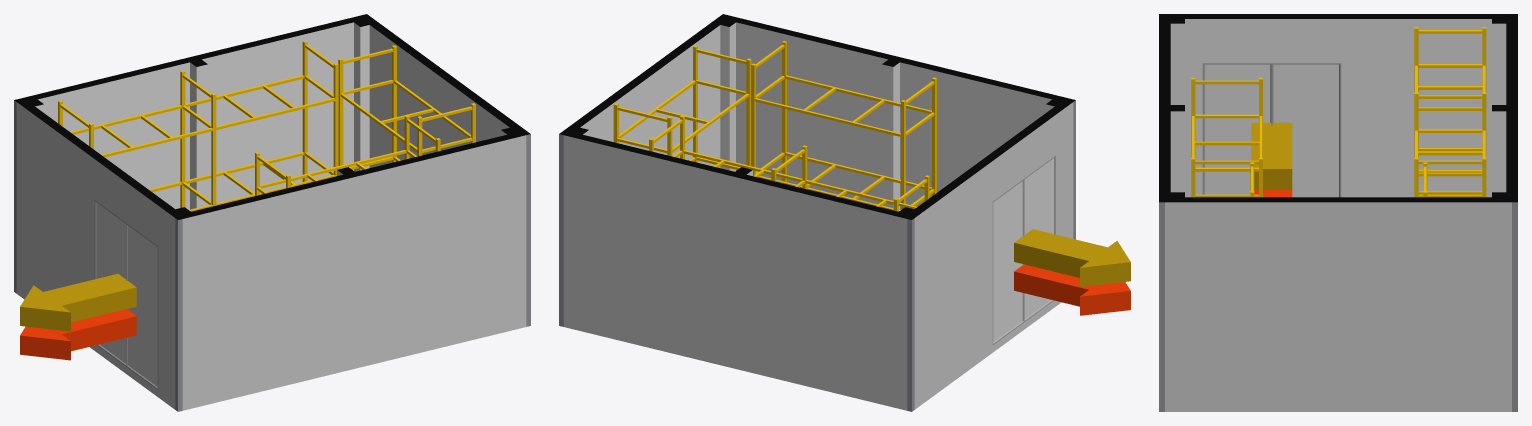
Rendered from soubrain_T1-5-1F.glb.
The picture shows the model from 3 angles, left to right: view 1: azimuth 30°, elevation 25°; view 2: azimuth 150°, elevation 25°; view 3: azimuth 270°, elevation 25°; orthographic projection. The views are drawn at different scales.
Visible parts, largest first — view 1: T1-5-1F_Wall, Rectangle1069, T1-5-1F_Door, arrow_Y_1_T1-5-1F, arrow_R_1_T1-5-1F; view 2: T1-5-1F_Wall, Rectangle1069, T1-5-1F_Door, arrow_Y_1_T1-5-1F, arrow_R_1_T1-5-1F; view 3: T1-5-1F_Wall, T1-5-1F_Door, Rectangle1069, arrow_Y_1_T1-5-1F.
Boxes of the visible parts, x1,y1,x2,y2 form: T1-5-1F_Wall: (14,14,530,411); Rectangle1069: (58,40,475,211); T1-5-1F_Door: (94,200,158,389); arrow_Y_1_T1-5-1F: (20,274,136,331); arrow_R_1_T1-5-1F: (20,309,136,360); T1-5-1F_Wall: (559,14,1075,411); Rectangle1069: (613,41,936,211); T1-5-1F_Door: (992,155,1055,345); arrow_Y_1_T1-5-1F: (1014,229,1130,286); arrow_R_1_T1-5-1F: (1014,264,1130,315); T1-5-1F_Wall: (1159,14,1517,411); T1-5-1F_Door: (1202,63,1341,197); Rectangle1069: (1191,27,1486,197); arrow_Y_1_T1-5-1F: (1251,122,1292,189).
Bounding box in the file's own units: 10.03 × 4.05 × 6.2.
